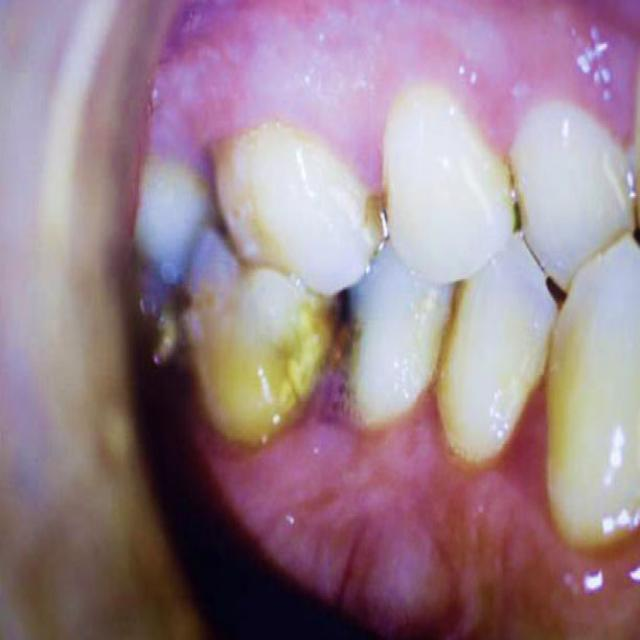caries: (320, 278, 368, 357)
